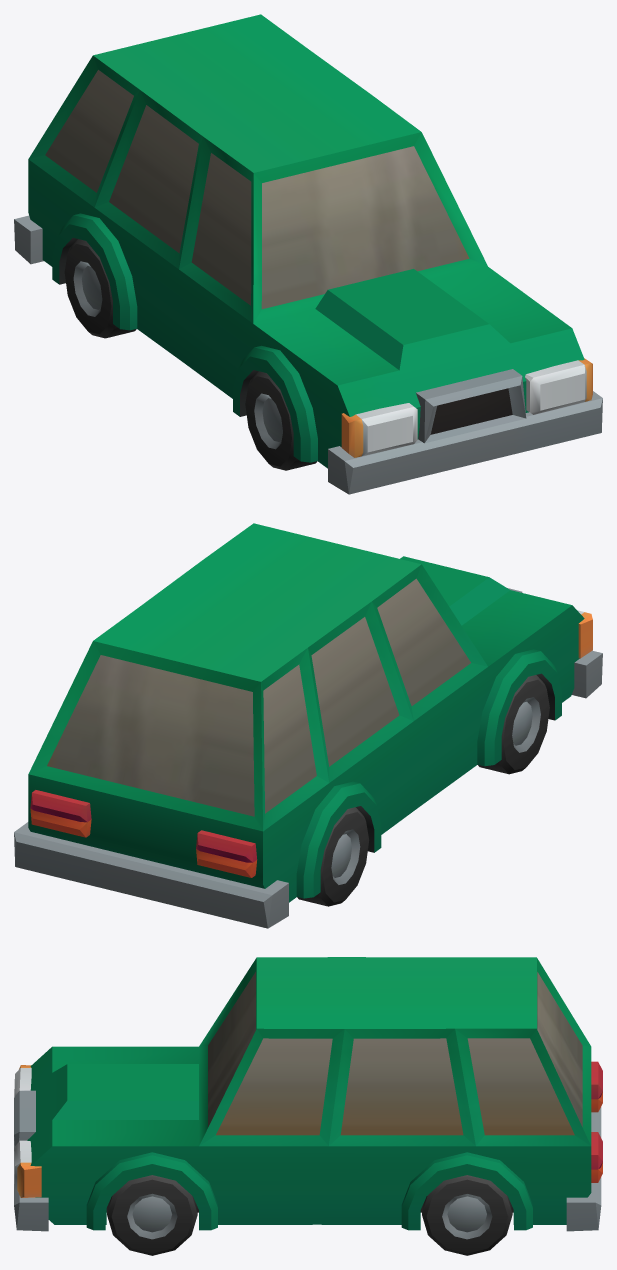
The model's file is kkcity.car_stationwagon.glb.
The picture shows the model from 3 angles, top to bottom: view 1: azimuth 30°, elevation 25°; view 2: azimuth 150°, elevation 25°; view 3: azimuth 270°, elevation 25°; orthographic projection. The views are drawn at different scales.
Visible parts, largest first — view 1: Cube.13728, car_stationwagon_wheel_front_right, car_stationwagon_wheel_rear_right; view 2: Cube.13728, car_stationwagon_wheel_rear_right, car_stationwagon_wheel_front_right; view 3: Cube.13728, car_stationwagon_wheel_front_left, car_stationwagon_wheel_rear_left.
Boxes of the visible parts, x1,y1,x2,y2 form: Cube.13728: (14,14,602,494); car_stationwagon_wheel_front_right: (245,371,317,470); car_stationwagon_wheel_rear_right: (64,239,136,338); Cube.13728: (14,523,602,928); car_stationwagon_wheel_rear_right: (297,807,369,906); car_stationwagon_wheel_front_right: (478,675,549,774); Cube.13728: (14,957,602,1231); car_stationwagon_wheel_front_left: (107,1175,197,1255); car_stationwagon_wheel_rear_left: (422,1175,512,1255).
Size of the model in its own units: 2.01 by 1.77 by 4.5.
Materials: 1 (1 with a texture image).
